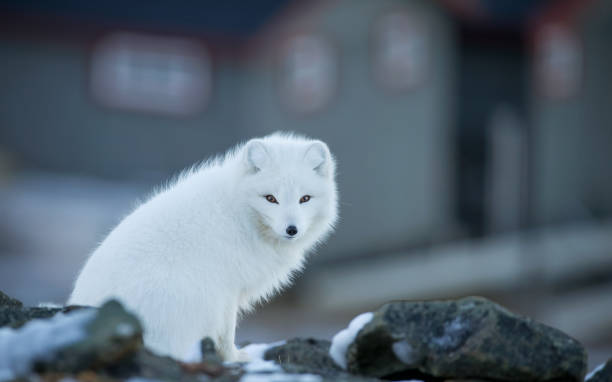arcticfox: (243, 154, 331, 257)
